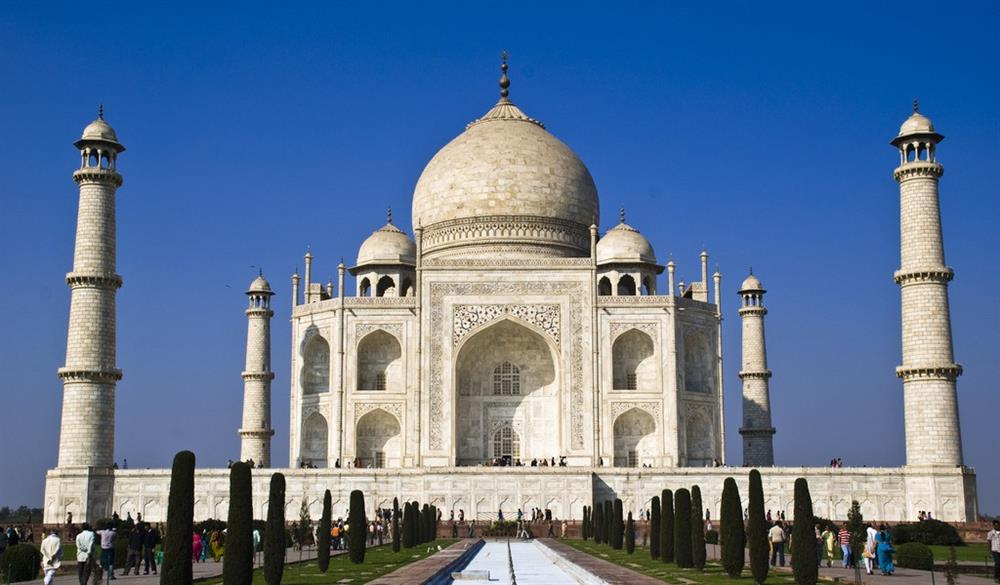Taj_Mahal: (54, 51, 976, 525)
